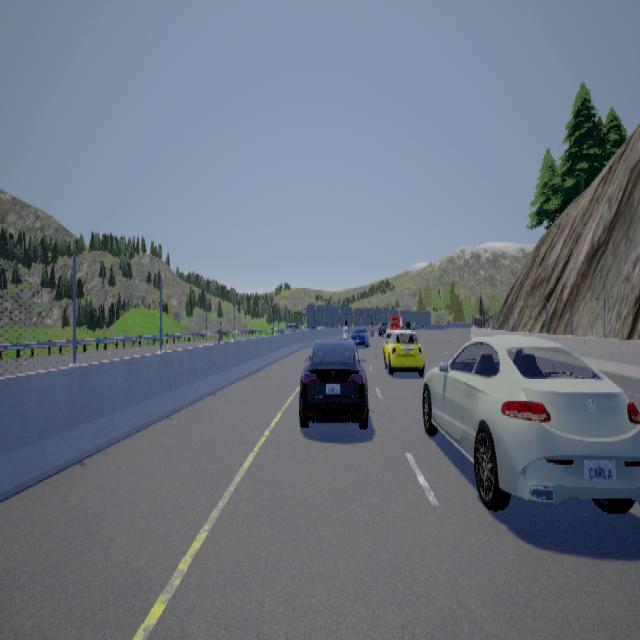vehicle: (421, 333, 639, 512), (298, 327, 369, 428), (377, 315, 424, 376)
